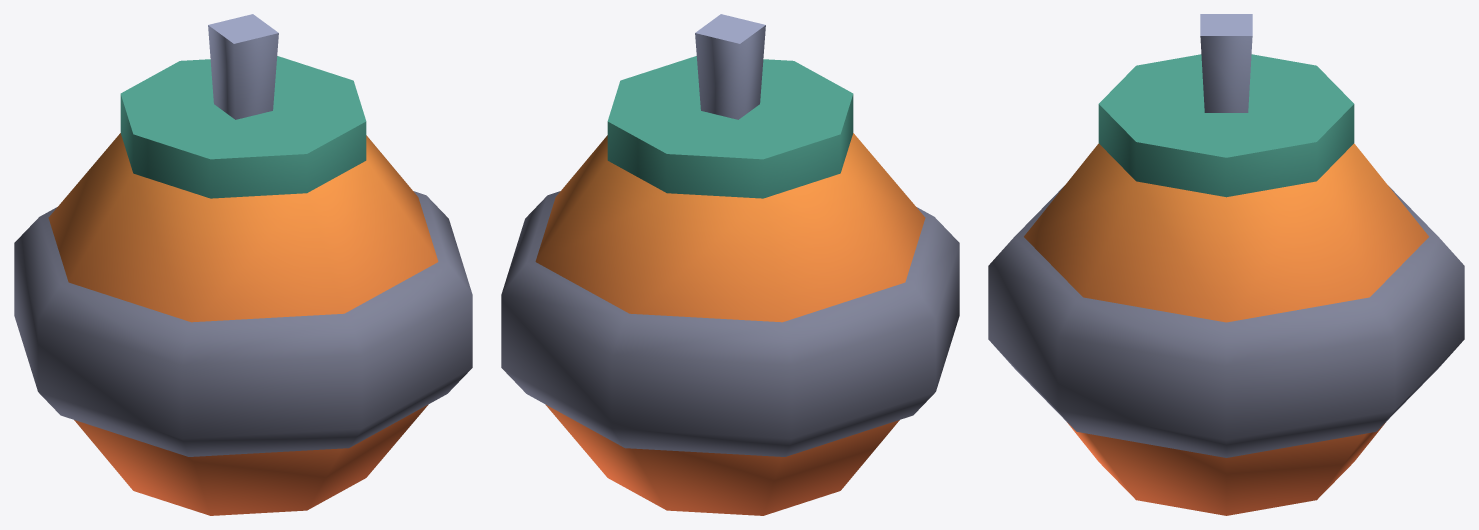
The model's file is bomb.glb.
3 views of the same model, side by side, from view 1: azimuth 30°, elevation 25°; view 2: azimuth 150°, elevation 25°; view 3: azimuth 270°, elevation 25° (orthographic).
Visible parts, largest first — view 1: bomb; view 2: bomb; view 3: bomb.
Boxes of the visible parts, x1,y1,x2,y2 form: bomb: (14,14,472,515); bomb: (501,14,959,515); bomb: (988,14,1464,515).
Bounding box in the file's own units: 0.4932 × 0.542 × 0.4932.
